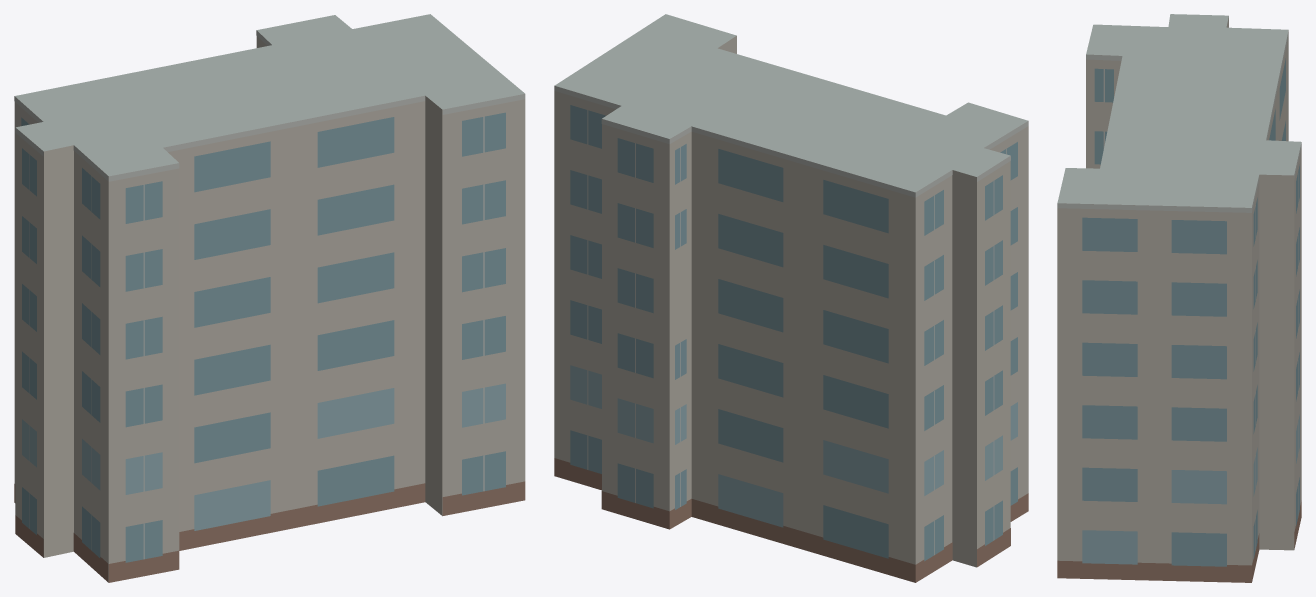
Rendered from survey-upis-33034107.glb.
3 views of the same model, side by side, from view 1: azimuth 30°, elevation 25°; view 2: azimuth 150°, elevation 25°; view 3: azimuth 270°, elevation 25° (orthographic). The views are drawn at different scales.
Visible parts, largest first — view 1: survey-upis-33034107.tmp; view 2: survey-upis-33034107.tmp; view 3: survey-upis-33034107.tmp.
Part boxes in pixels (left/top/right/bottom): survey-upis-33034107.tmp: left=14, top=14, right=525, bottom=582; survey-upis-33034107.tmp: left=554, top=14, right=1028, bottom=582; survey-upis-33034107.tmp: left=1057, top=14, right=1301, bottom=582.
Bounding box in the file's own units: 20.31 × 18.3 × 10.81.
